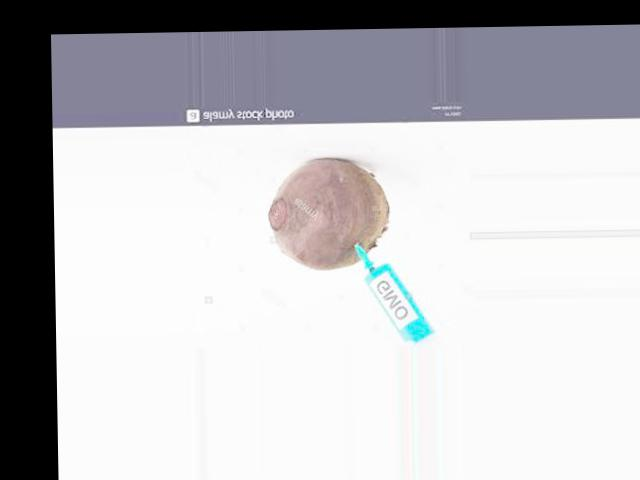beet: (268, 156, 388, 271)
